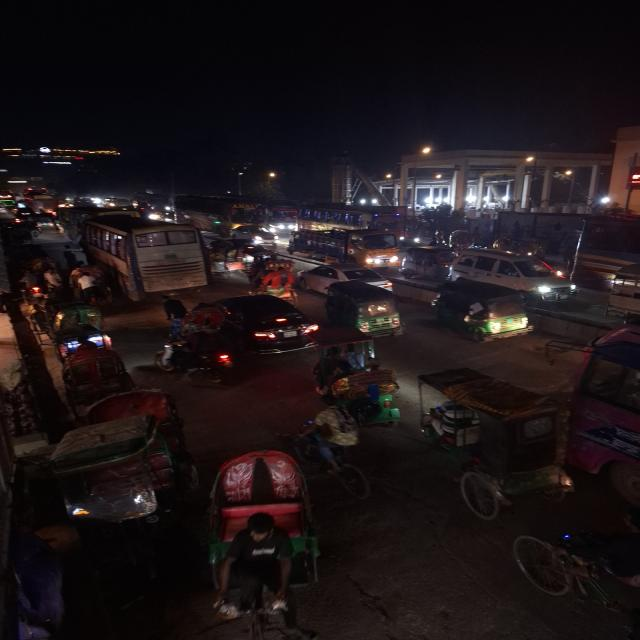bicycle: (283, 416, 373, 502)
bus: (568, 333, 640, 518), (116, 214, 212, 300), (570, 213, 640, 322), (265, 203, 299, 231)
car: (215, 292, 319, 356), (447, 249, 569, 295), (298, 264, 401, 292), (230, 223, 279, 246), (19, 212, 62, 230)
cng: (429, 283, 533, 343), (322, 281, 407, 339)
motorcycle: (154, 334, 235, 384), (16, 270, 54, 301)
rickshaw: (416, 363, 579, 521), (197, 444, 324, 541), (26, 304, 110, 362), (326, 364, 407, 411), (252, 266, 298, 296), (211, 243, 246, 275)
truck: (414, 365, 578, 522), (296, 231, 402, 267), (401, 247, 457, 279)
